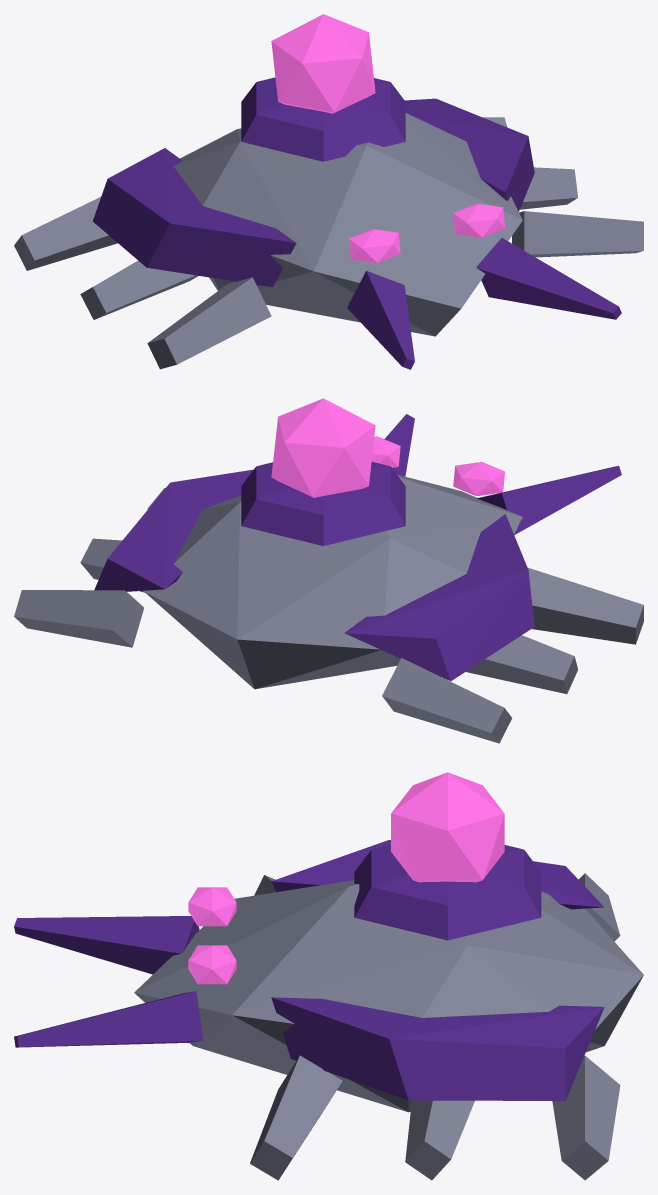
Rendered from alien_shielded.glb.
The picture shows the model from 3 angles, top to bottom: view 1: azimuth 30°, elevation 25°; view 2: azimuth 150°, elevation 25°; view 3: azimuth 270°, elevation 25°; orthographic projection. The views are drawn at different scales.
Parts seen in each view (by area): view 1: alien_shielded, anim_emitter; view 2: alien_shielded, anim_emitter; view 3: alien_shielded, anim_emitter.
Boxes of the visible parts, x1,y1,x2,y2 form: alien_shielded: [14, 77, 643, 369]; anim_emitter: [271, 14, 375, 113]; alien_shielded: [14, 414, 643, 743]; anim_emitter: [271, 398, 375, 497]; alien_shielded: [14, 840, 643, 1180]; anim_emitter: [391, 772, 504, 882].
Bounding box in the file's own units: 32.72 × 15.59 × 32.12.
Materials: 2 (2 with a texture image).
